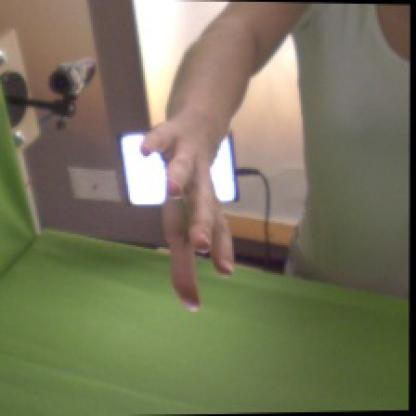Hand: (139, 113, 236, 311)
